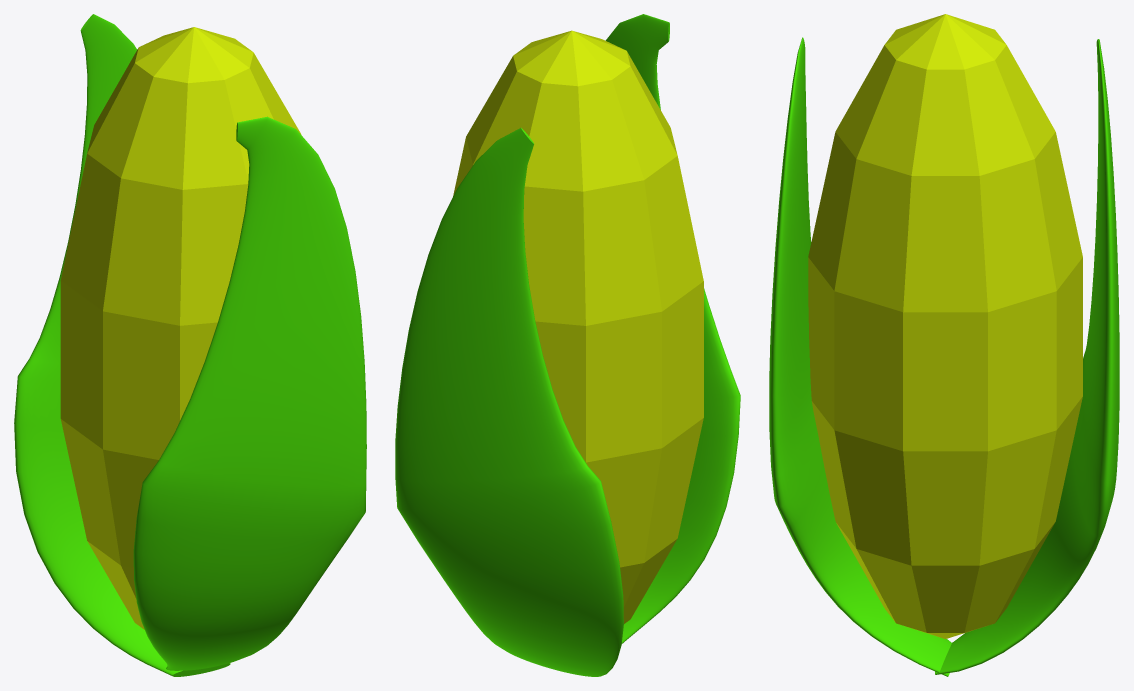
File: maiskolf.fbx
The picture shows the model from 3 angles, left to right: view 1: azimuth 30°, elevation 25°; view 2: azimuth 150°, elevation 25°; view 3: azimuth 270°, elevation 25°; orthographic projection.
Parts seen in each view (by area): view 1: Sphere.001; view 2: Sphere.001; view 3: Sphere.001.
Boxes of the visible parts, x1,y1,x2,y2 form: Sphere.001: (14,14,366,676); Sphere.001: (395,14,740,676); Sphere.001: (769,14,1119,676).
Bounding box in the file's own units: 20.3 × 55.61 × 27.18.
